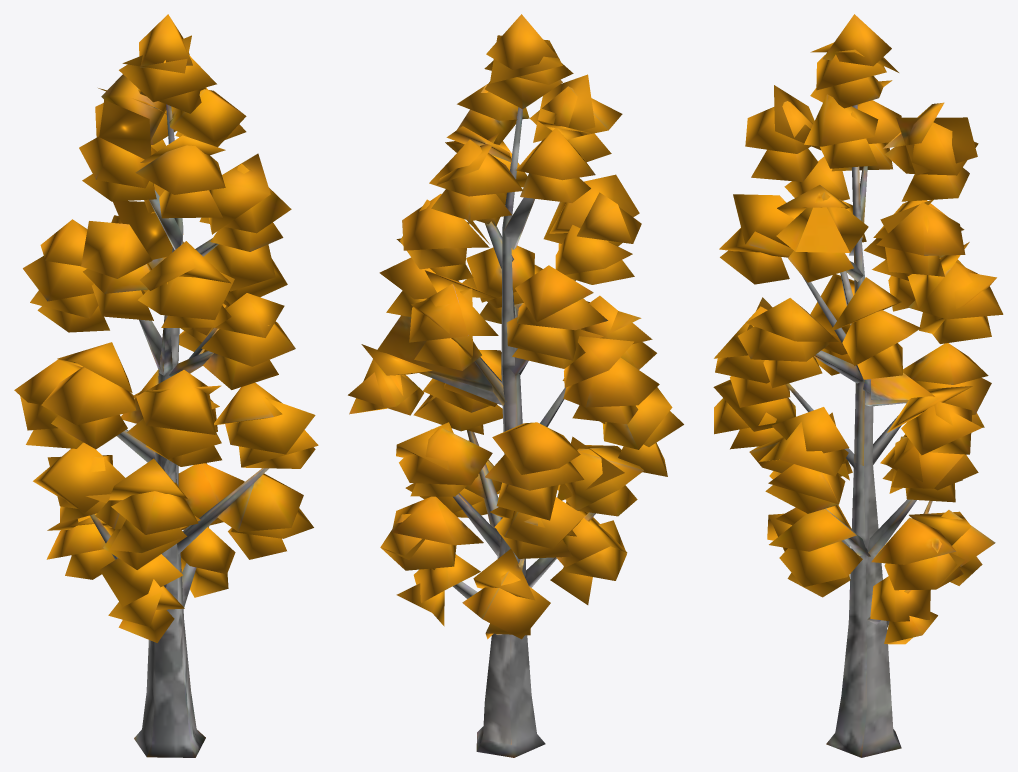
Rendered from tree-golden-birch.glb.
The picture shows the model from 3 angles, left to right: view 1: azimuth 30°, elevation 25°; view 2: azimuth 150°, elevation 25°; view 3: azimuth 270°, elevation 25°; orthographic projection.
Parts seen in each view (by area): view 1: mesh_node; view 2: mesh_node; view 3: mesh_node.
Boxes of the visible parts, left/top/right/bottom form: mesh_node: left=14, top=14, right=318, bottom=757; mesh_node: left=348, top=14, right=683, bottom=757; mesh_node: left=713, top=14, right=1003, bottom=757.
Bounding box in the file's own units: 0.3584 × 1 × 0.3633.
Materials: 1 (1 with a texture image).
